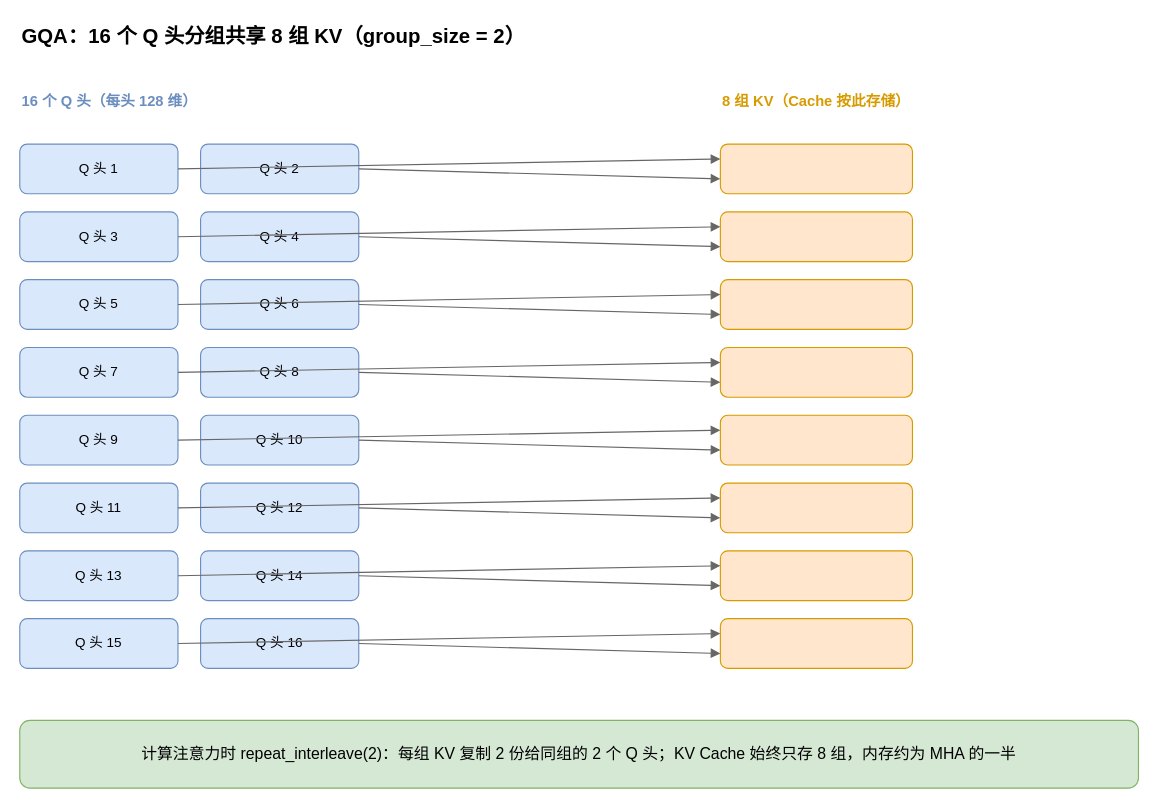
Image size: 1158x808. Some labels were removed from this diagram. Here are the shapes that lost their labels. From the top down, the box of each, then its label:
(719, 143, 912, 194): KV 组 1
(719, 211, 912, 262): KV 组 2
(719, 279, 912, 329): KV 组 3
(719, 346, 912, 397): KV 组 4
(719, 414, 912, 465): KV 组 5
(719, 482, 912, 533): KV 组 6
(719, 550, 912, 601): KV 组 7
(719, 618, 912, 668): KV 组 8
